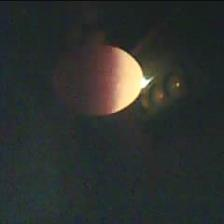fertile: (51, 43, 144, 116)
